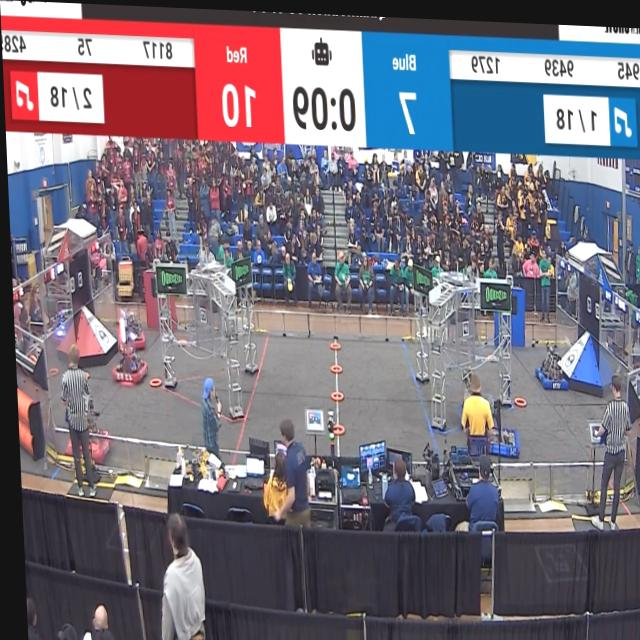Robot: (51, 356, 110, 465), (477, 366, 519, 461), (105, 303, 146, 391), (110, 282, 145, 354), (527, 335, 565, 393)
